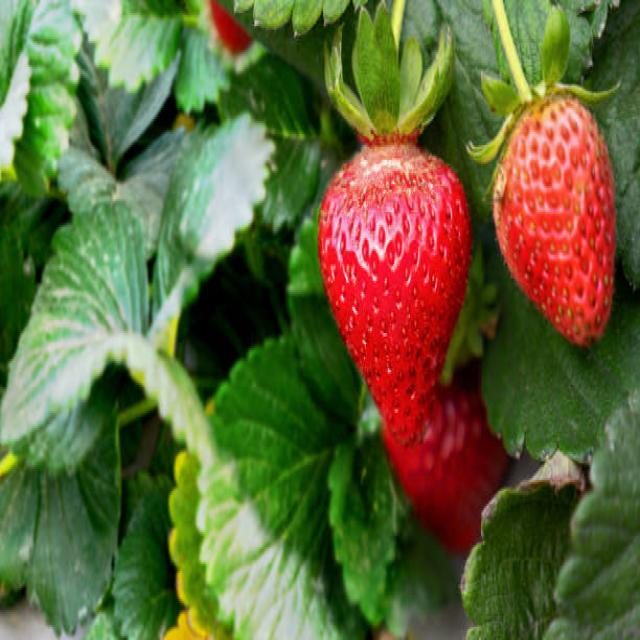Healthy Fruit: (319, 148, 471, 449), (493, 92, 615, 349)
